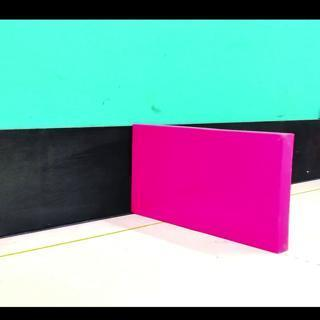xparking: (136, 142, 283, 249)
